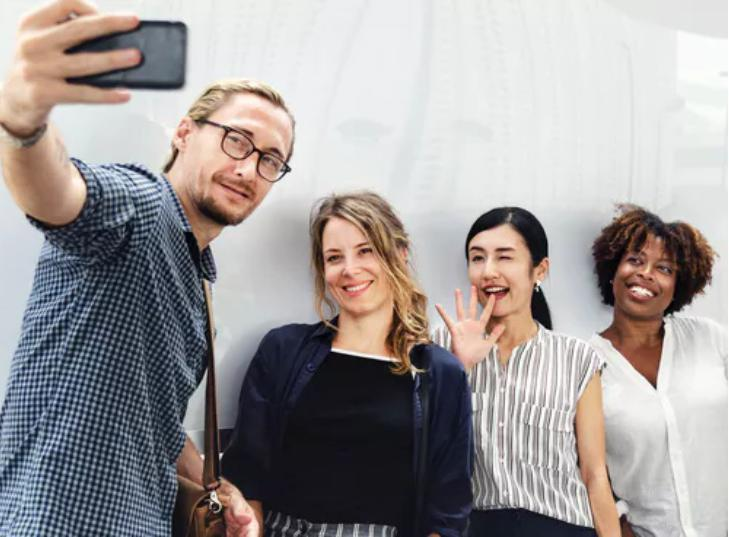face: (196, 93, 290, 224), (320, 216, 392, 316), (469, 226, 531, 315), (612, 236, 677, 314)
